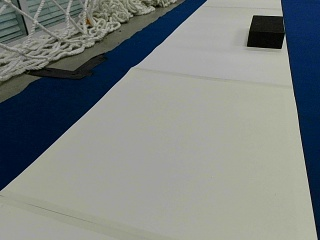block: (247, 14, 284, 48)
